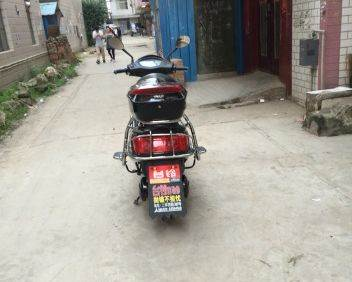电动车: (96, 33, 215, 228)
